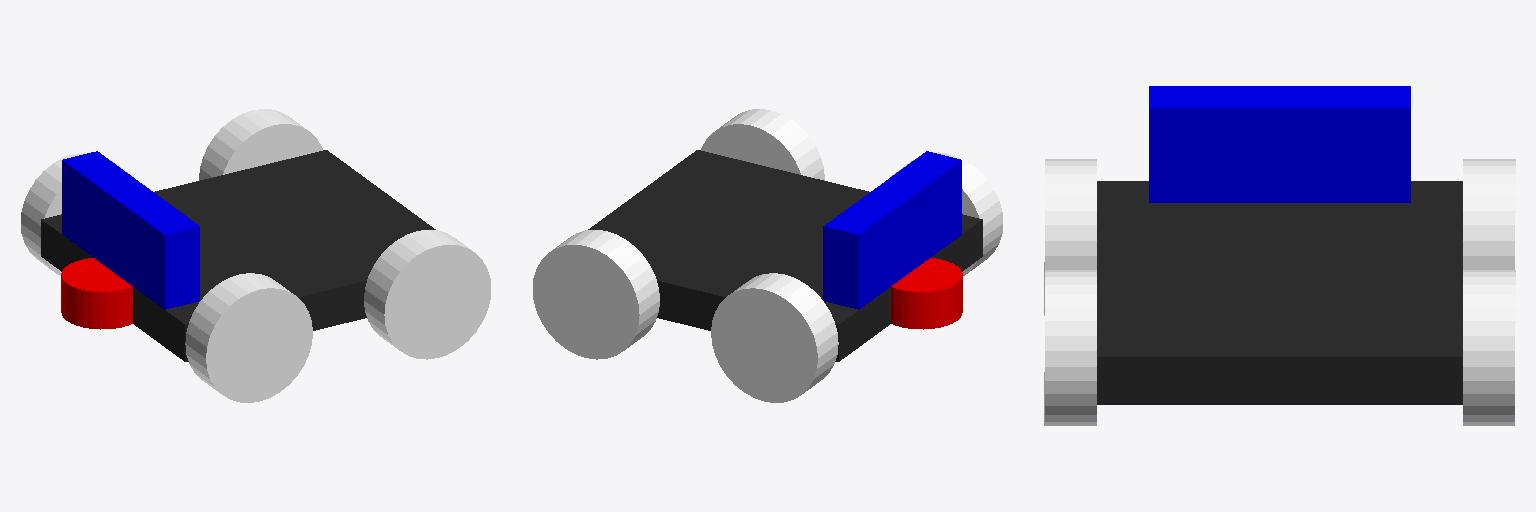
robot.urdf — rover:
<?xml version="1.0" ?>
  <robot name="rover">

<link name="base_footprint"/>


  <link name="chassis">
    <visual>
      <geometry>
          <box size=".8 0.7 0.1"/>
      </geometry>
      <material name="gray">
        <color rgba=".2 .2 .2 1" />
      </material>
    </visual>
  <inertial>
            <mass value="2" />
            <inertia ixx="0.126" ixy="0.0" ixz="0" 
            iyy="0.216" iyz="0" izz="0.281" />
    </inertial>
    
    <collision>
      <geometry>
          <box size=".8 0.7 0.1"/>
      </geometry>
    </collision>
  </link>

  <joint name="base_joint" type="fixed">
  <origin xyz="0.0 0.0 0.15" rpy="0.0 0.0 0.0"/>
    <parent link="base_footprint"/>
    <child link="chassis"/>
  </joint>

  <link name="wheel_front_right">
    <inertial>
            <mass value="2" />
            <inertia ixx="1e-3" ixy="0.0" ixz="0" 
            iyy="1e-3" iyz="0" izz="1e-3" />
    </inertial>

    <visual>
      
      <geometry>
          <cylinder radius="0.15" length="0.1"/>
      </geometry>
      <material name="white">
        <color rgba="1 1 1 1"/>
      </material>
    </visual>

    <collision>
    
      <geometry>
          <cylinder radius="0.15" length="0.1"/>
      </geometry>
      <contact_coefficients mu="1" kp="1e+13" kd="1.0"/>
    </collision>
  </link>

  <joint name="wheel_front_right_joint" type="continuous">
    <origin xyz="0.25 0.4 0.0" rpy="1.57 0.0 0.0"/>
    <parent link="chassis"/>
    <child link="wheel_front_right"/>
    <axis xyz="0.0 0.0 1.0"/>
  </joint>

  <link name="wheel_front_left">
    <inertial>
            <mass value="2" />
            <inertia ixx="1e-3" ixy="0.0" ixz="0" 
            iyy="1e-3" iyz="0" izz="1e-3" />
    </inertial>

    <visual>
      
      <geometry>
          <cylinder radius="0.15" length="0.1"/>
      </geometry>
      <material name="white">
        <color rgba="1 1 1 1"/>
      </material>
    </visual>

    <collision>
      <geometry>
          <cylinder radius="0.15" length="0.1"/>
      </geometry>
      <contact_coefficients mu="1" kp="1e+13" kd="1.0"/>
    </collision>
  </link>

  <joint name="wheel_front_left_joint" type="continuous">
    <origin xyz="0.25 -0.4 0.0" rpy="1.57 0.0 0.0"/>
    <parent link="chassis"/>
    <child link="wheel_front_left"/>
    <axis xyz="0.0 0.0 1.0"/>

  </joint>

<link name="wheel_back_right">
    <inertial>
            <mass value="2" />
            <inertia ixx="1e-3" ixy="0.0" ixz="0" 
            iyy="1e-3" iyz="0" izz="1e-3" />
    </inertial>

    <visual>
      
      <geometry>
          <cylinder radius="0.15" length="0.1"/>
      </geometry>
      <material name="white">
        <color rgba="1 1 1 1"/>
      </material>
    </visual>

    <collision>
      <geometry>
          <cylinder radius="0.15" length="0.1"/>
      </geometry>
      <contact_coefficients mu="1" kp="1e+13" kd="1.0"/>
    </collision>
  </link>

  <joint name="wheel_back_right_joint" type="continuous">
    <origin xyz="-0.25 0.4 0.0" rpy="1.57 0.0 0.0"/>
    <parent link="chassis"/>
    <child link="wheel_back_right"/>
    <axis xyz="0.0 0.0 1.0"/>

  </joint>

  <link name="wheel_back_left">
    <inertial>
            <mass value="2" />
            <inertia ixx="1e-3" ixy="0.0" ixz="0" 
            iyy="1e-3" iyz="0" izz="1e-3" />
    </inertial>

    <visual>
      
      <geometry>
          <cylinder radius="0.15" length="0.1"/>
      </geometry>
      <material name="white">
        <color rgba="1 1 1 1"/>
      </material>
    </visual>

    <collision>
      <geometry>
          <cylinder radius="0.15" length="0.1"/>
      </geometry>
      <contact_coefficients mu="1" kp="1e+13" kd="1.0"/>
    </collision>
  </link>

  <joint name="wheel_back_left_joint" type="continuous">
    <origin xyz="-0.25 -0.4 0.0" rpy="1.57 0.0 0.0"/>
    <parent link="chassis"/>
    <child link="wheel_back_left"/>
    <axis xyz="0.0 0.0 1.0"/>

  </joint>

  <link name="camera">
    <inertial>
            <mass value="0.5" />
            <inertia ixx="0.1" ixy="0.0" ixz="0" 
            iyy="0.1" iyz="0" izz="0.1" />
    </inertial>

    <visual>
      
      <geometry>
        <box size="0.1 0.5 0.2"/>
      </geometry>
      <material name="blue">
        <color rgba="0 0 1 1"/>
      </material>
    </visual>

    <collision>
      <geometry>
          <box size="0.1 0.5 0.2"/>
      </geometry>
    </collision>
  </link>

  <joint name="camera_joint" type="fixed">
    <origin xyz="-0.35 0 0.15" rpy="0 0.0 3.14"/>
    <parent link="chassis"/>
    <child link="camera"/>
    <axis xyz="0.0 0.0 1.0"/>

  </joint>

  <link name="lidar">
    <inertial>
            <mass value="0.5" />
            <inertia ixx="0.1" ixy="0.0" ixz="0" 
            iyy="0.1" iyz="0" izz="0.1" />
    </inertial>

    <visual>
      <geometry>
        <cylinder radius="0.1" length="0.1"/>
      </geometry>
      <material name="red">
        <color rgba="1 0 0  1"/>
      </material>
    </visual>

    <collision>
      <geometry>
        <cylinder radius="0.1" length="0.1"/>
      </geometry>
    </collision>
  </link>

  <joint name="lidar_joint" type="fixed">
    <origin xyz="-0.43 0 0.0" rpy="0 0.0 1.57"/>
    <parent link="chassis"/>
    <child link="lidar"/>
    <axis xyz="0.0 0.0 1.0"/>

  </joint>



<!-- DIFFENERNTIAL DRIVEEEEEEEEEEEEE -->

  <gazebo>
<plugin name='diff_drive' filename='libgazebo_ros_diff_drive.so'>

        <!-- <ros>
          <namespace>/demo</namespace>
          <remapping>cmd_vel:=cmd_demo</remapping>
          <remapping>odom:=odom_demo</remapping>
        </ros> -->

        <!-- wheels -->
        <left_joint>wheel_front_left_joint</left_joint>
        <right_joint>wheel_front_right_joint</right_joint>

        <!-- kinematics -->
        <wheel_separation>0.8</wheel_separation>
        <wheel_diameter>0.3</wheel_diameter>

        <!-- limits -->
        <max_wheel_torque>20</max_wheel_torque>
        <max_wheel_acceleration>1.0</max_wheel_acceleration>

        <!-- output -->
        <publish_odom>true</publish_odom>
        <publish_odom_tf>true</publish_odom_tf>
        <publish_wheel_tf>true</publish_wheel_tf>

        <odometry_frame>base_footprint</odometry_frame>
        <robot_base_frame>chassis</robot_base_frame>

      </plugin>
</gazebo>




<!-- CAMERAAAAAAAAAAAAAAAAAAAAAAAAAAAAAA -->
      <gazebo reference="camera">
    <sensor type="camera" name="camera1">
      <update_rate>30.0</update_rate>
      <camera name="head">
        <horizontal_fov>1.3962634</horizontal_fov>
        <image>
          <width>800</width>
          <height>800</height>
          <format>R8G8B8</format>
        </image>
        <clip>
          <near>0.02</near>
          <far>300</far>
        </clip>
        <noise>
          <type>gaussian</type>
          <!-- Noise is sampled independently per pixel on each frame.
               That pixel's noise value is added to each of its color
               channels, which at that point lie in the range [0,1]. -->
          <mean>0.0</mean>
          <stddev>0.007</stddev>
        </noise>
      </camera>
      <plugin name="camera_controller" filename="libgazebo_ros_camera.so">
        <alwaysOn>true</alwaysOn>
        <updateRate>0.0</updateRate>
        <cameraName>/camera</cameraName>
        <imageTopicName>image_raw</imageTopicName>
        <cameraInfoTopicName>camera_info</cameraInfoTopicName>
        <frameName>camera_link</frameName>
        <hackBaseline>0.07</hackBaseline>
      </plugin>
    </sensor>
    <material>Gazebo/Blue</material>
  </gazebo>
<!-- LIDAAAAAAAAAAAAAAAAAAAAAAAAAAR -->
   <gazebo reference="lidar">
    <sensor name="gazebo_lidar" type="ray">
      <update_rate>12.0</update_rate>
      <plugin filename="libgazebo_ros_ray_sensor.so" name="gazebo_lidar">
      <ros>
        <remapping>~/out:=scan</remapping>
      </ros>
      
      <output_type>sensor_msgs/LaserScan</output_type>
      <frame_name>lidar</frame_name>
      </plugin>
      <ray>
        <scan>
          <horizontal>
            <samples>360</samples>
            <resolution>1</resolution>
            <min_angle>0.00</min_angle>
            <max_angle>3.14</max_angle>
          </horizontal>
        </scan>
        <range>
          <min>0.120</min>
          <max>3.5</max>
          <resolution>0.015</resolution>
        </range>
        <noise>
          <type>gaussian</type>
          <mean>0.0</mean>
          <stddev>0.01</stddev>
        </noise>
        <visualize>true</visualize>
      </ray>
    </sensor>
    <material>Gazebo/DarkGrey</material>
  </gazebo>

</robot>

--- Render facts (derived) ---
Views: 3 orthographic renders of the robot side by side, from view 1: azimuth 30°, elevation 25°; view 2: azimuth 150°, elevation 25°; view 3: azimuth 270°, elevation 25°.
Model rover with 8 links and 7 joints (4 continuous, 3 fixed), rooted at base_footprint, posed all joints at 0.
Links seen in each view (by area): view 1: chassis, camera, wheel_back_left, wheel_front_left, wheel_front_right, lidar, wheel_back_right; view 2: chassis, camera, wheel_back_right, wheel_front_right, wheel_front_left, lidar, wheel_back_left; view 3: chassis, camera, wheel_front_right, wheel_front_left, wheel_back_right, wheel_back_left.
Boxes of the visible links, box(x1,y1,x2,y2) form: chassis: box(41, 150, 435, 361); camera: box(62, 151, 199, 309); wheel_back_left: box(185, 273, 312, 402); wheel_front_left: box(364, 230, 490, 359); wheel_front_right: box(199, 109, 322, 180); lidar: box(61, 258, 132, 329); wheel_back_right: box(21, 152, 132, 275); chassis: box(588, 150, 982, 361); camera: box(823, 151, 961, 309); wheel_back_right: box(711, 273, 838, 402); wheel_front_right: box(533, 230, 659, 359); wheel_front_left: box(701, 109, 824, 180); lidar: box(891, 258, 962, 329); wheel_back_left: box(891, 152, 1002, 275); chassis: box(1097, 181, 1462, 404); camera: box(1149, 86, 1410, 202); wheel_front_right: box(1463, 270, 1515, 425); wheel_front_left: box(1044, 270, 1096, 425); wheel_back_right: box(1463, 159, 1515, 269); wheel_back_left: box(1044, 159, 1096, 315).
Bounding box of the posed robot: 0.93 × 0.9002 × 0.4 m (x, y, z).
Geometry: primitives only (box / cylinder / sphere), no mesh files.
